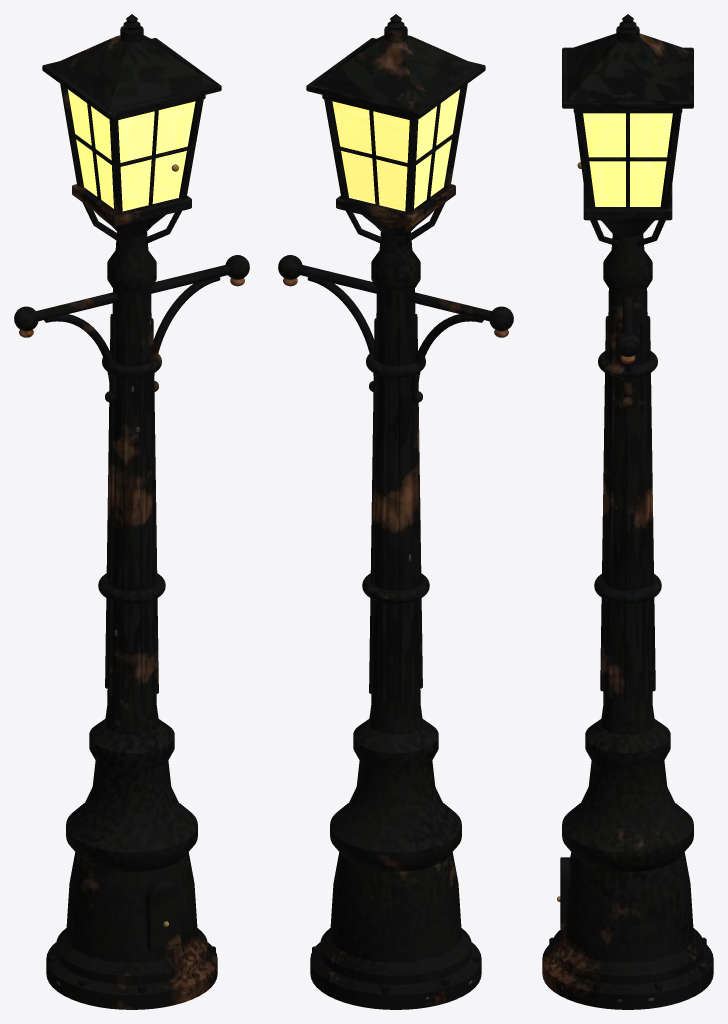
The model's file is gen_street_lamp.glb.
The picture shows the model from 3 angles, left to right: view 1: azimuth 30°, elevation 25°; view 2: azimuth 150°, elevation 25°; view 3: azimuth 270°, elevation 25°; orthographic projection.
Visible parts, largest first — view 1: gen_street_lamp; view 2: gen_street_lamp; view 3: gen_street_lamp.
Part boxes in pixels (left/top/right/bottom): gen_street_lamp: left=14, top=14, right=249, bottom=1009; gen_street_lamp: left=278, top=14, right=513, bottom=1009; gen_street_lamp: left=542, top=14, right=713, bottom=1009.
Bounding box in the file's own units: 0.815 × 3.21 × 0.52.
1 material, 1 textured.
